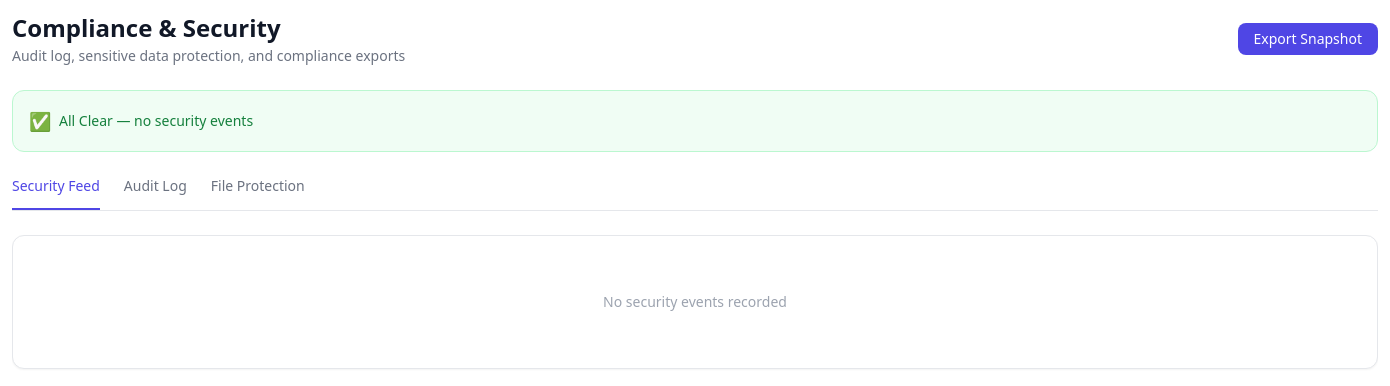
Compliance › switches to Audit Log tab
Expected: the button "Security Feed" is shown, x1=12 y1=176 x2=100 y2=210
Click the button "Audit Log".
click(155, 193)  # box x1=124 y1=176 x2=187 y2=210
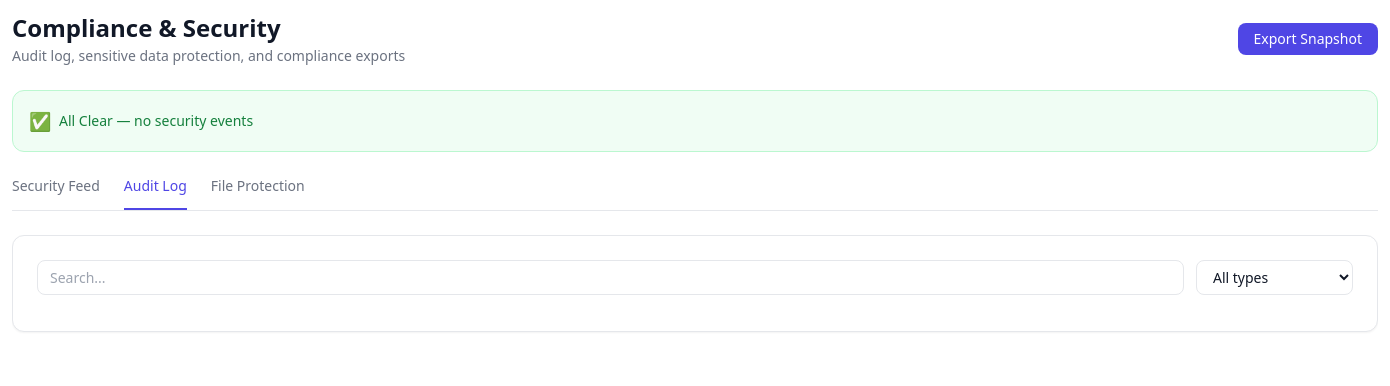
Now the field with placeholder "Search..." is shown, box x1=37 y1=260 x2=1184 y2=295
